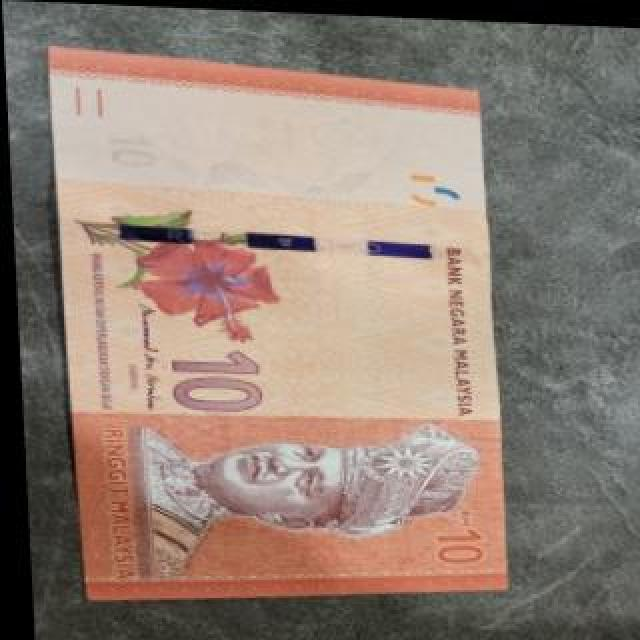10 Ringgit: (36, 60, 500, 607)
